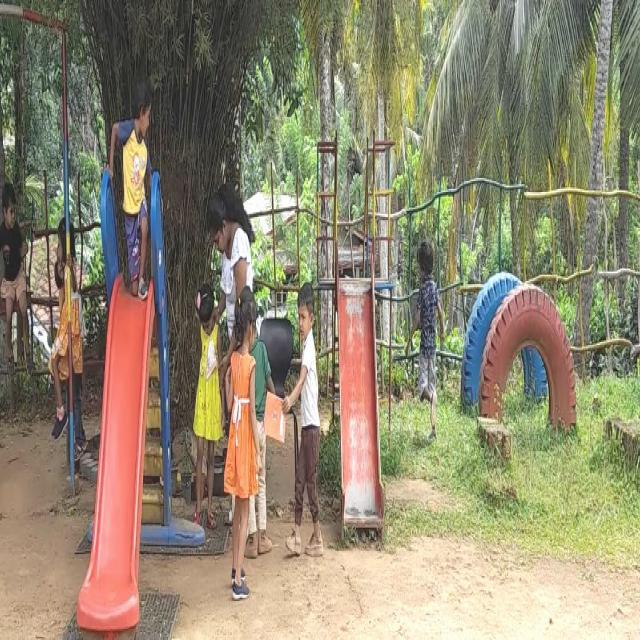child: (223, 303, 258, 599), (289, 266, 324, 552), (114, 87, 154, 297), (187, 292, 223, 513), (0, 168, 28, 356), (418, 226, 442, 422)
